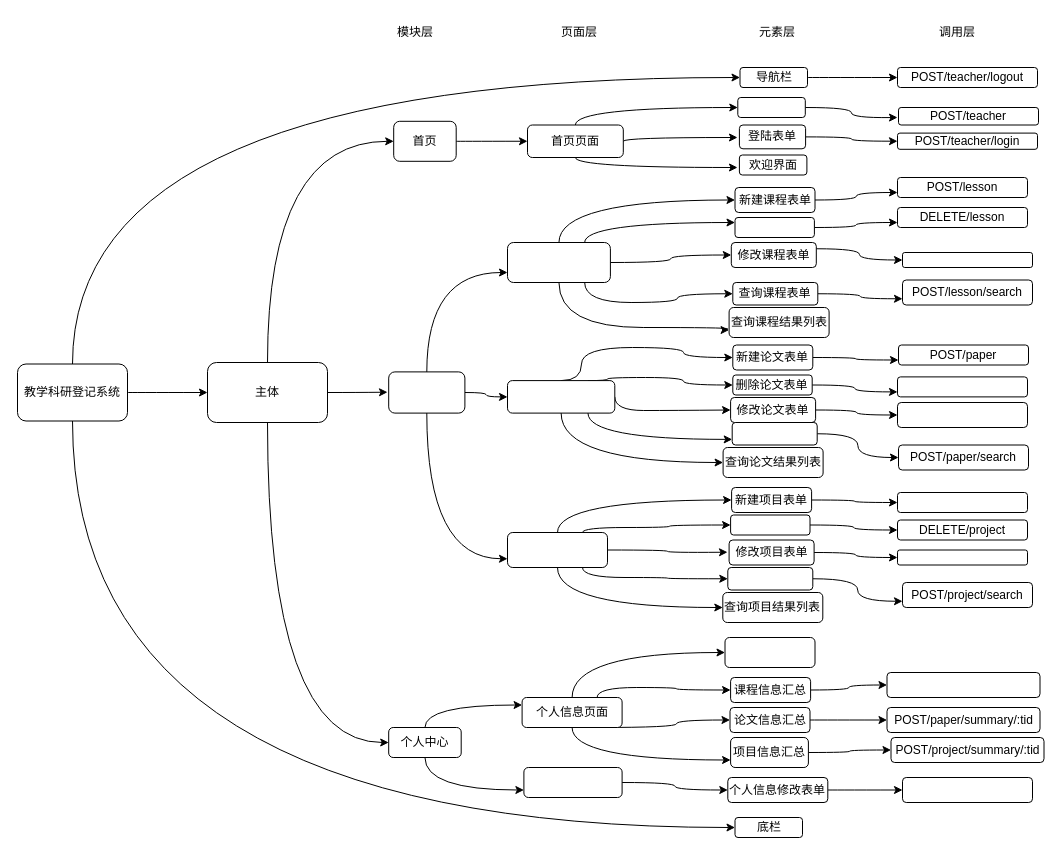
This 1062x855 diagram has some shape labels left out. The shapes that lost their labels are listed below. From the top down, each one's centre as x and y in pixels, then its label:
At point 771,107: "注册表单".
At point 774,227: "删除课程表单".
At point 558,262: "教授课程页面".
At point 967,260: "PATCH/lesson".
At point 426,392: "工作空间".
At point 560,396: "发表论文页面".
At point 962,386: "DELETE/lpaper".
At point 774,433: "查询论文表单".
At point 962,415: "PATCH/paper".
At point 962,502: "POST/project".
At point 770,524: "删除项目表单".
At point 557,550: "承担项目页面".
At point 962,557: "PATCH/project".
At point 770,578: "查询项目表单".
At point 769,652: "个人信息显示".
At point 963,685: "POST/lesson/summary/:tid".
At point 572,782: "修改信息页面".
At point 967,789: "PATCH/teacher".
